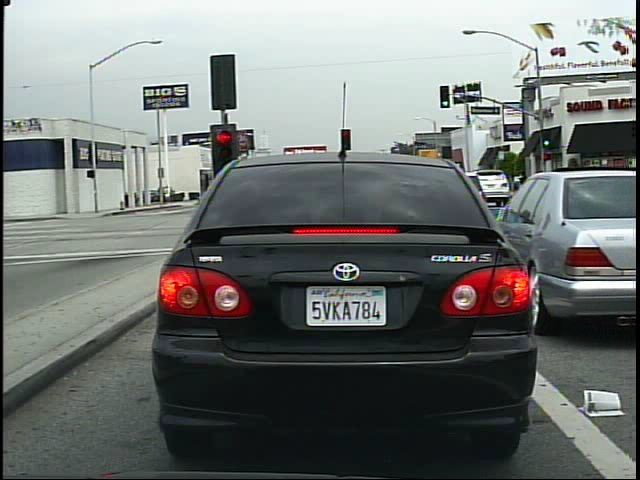person: (164, 184, 173, 207), (524, 168, 525, 200)
